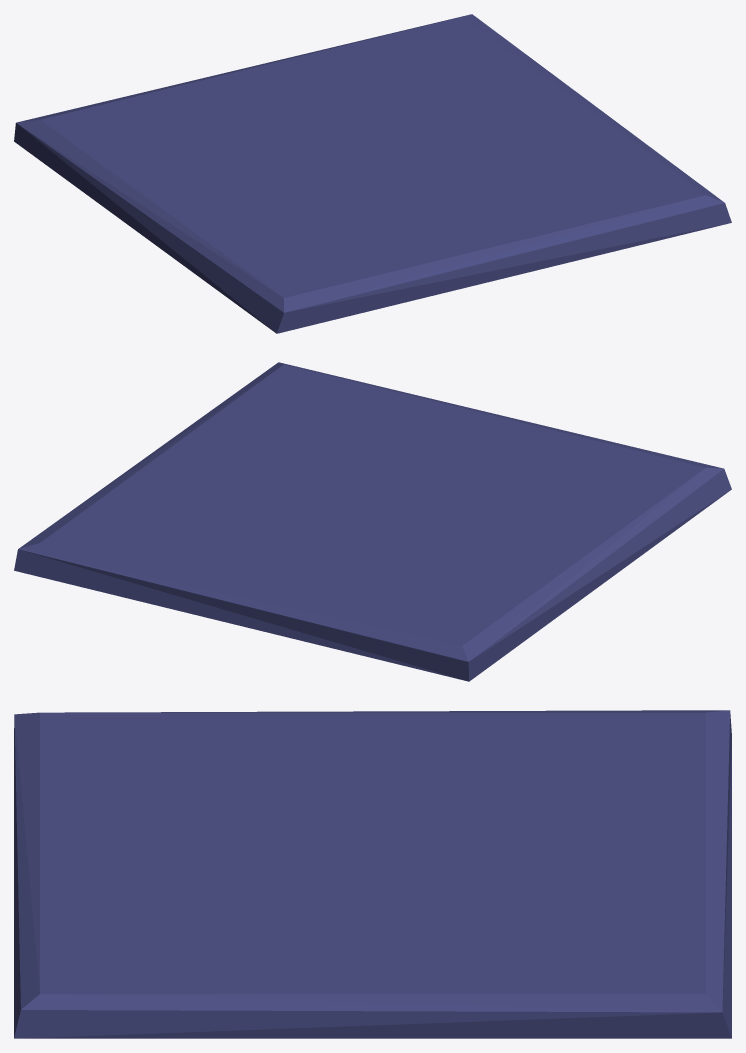
Rendered from BuildPad.glb.
3 renders of one model, top to bottom at view 1: azimuth 30°, elevation 25°; view 2: azimuth 150°, elevation 25°; view 3: azimuth 270°, elevation 25°, orthographic. The views are drawn at different scales.
Visible parts, largest first — view 1: Cube; view 2: Cube; view 3: Cube.
Part boxes in pixels (x1,y1,x2,y2): Cube: [14, 14, 731, 333]; Cube: [14, 362, 731, 681]; Cube: [14, 710, 731, 1038].
Size of the model in its own units: 19.88 by 1.03 by 19.88.
